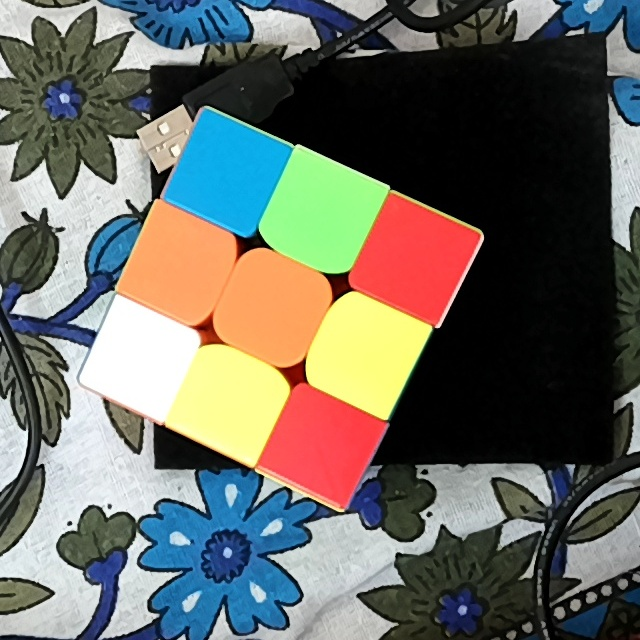tile: (376, 223, 450, 297), (283, 183, 356, 253), (144, 232, 215, 303), (330, 318, 400, 389), (236, 274, 306, 345), (284, 411, 355, 480), (191, 144, 262, 212), (104, 325, 173, 394), (195, 366, 263, 435)
